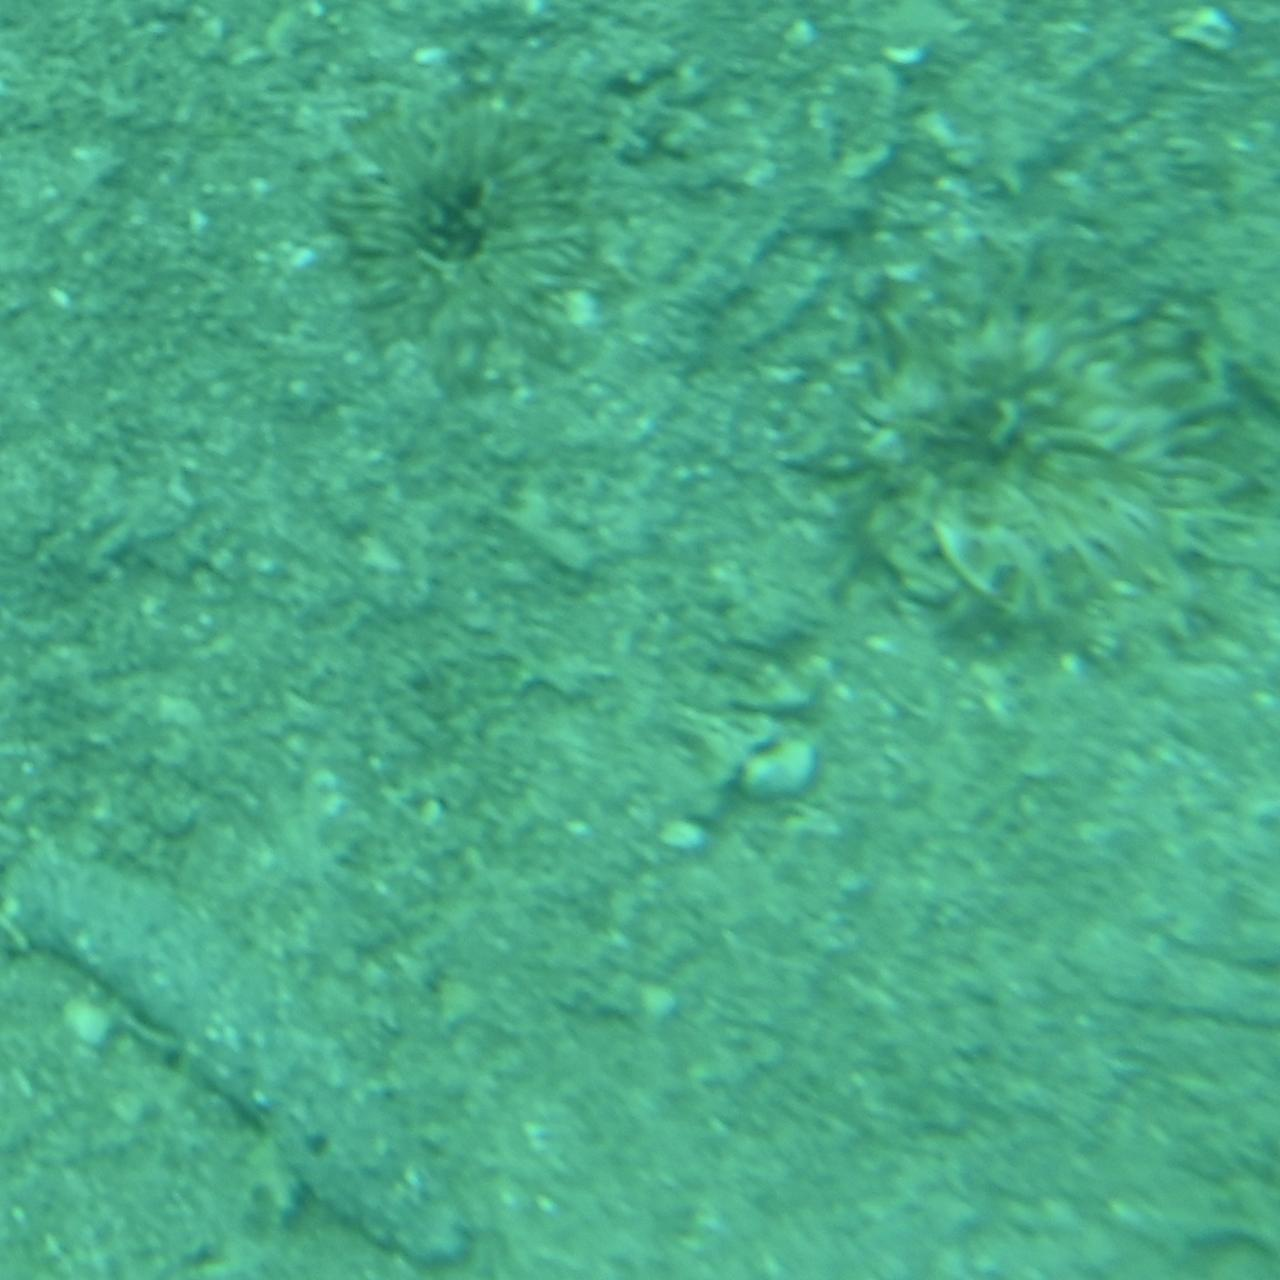Condylactis aurantiaca: (806, 272, 1278, 721), (297, 56, 636, 420)
Holothuria tubulosa: (7, 812, 470, 1274)
